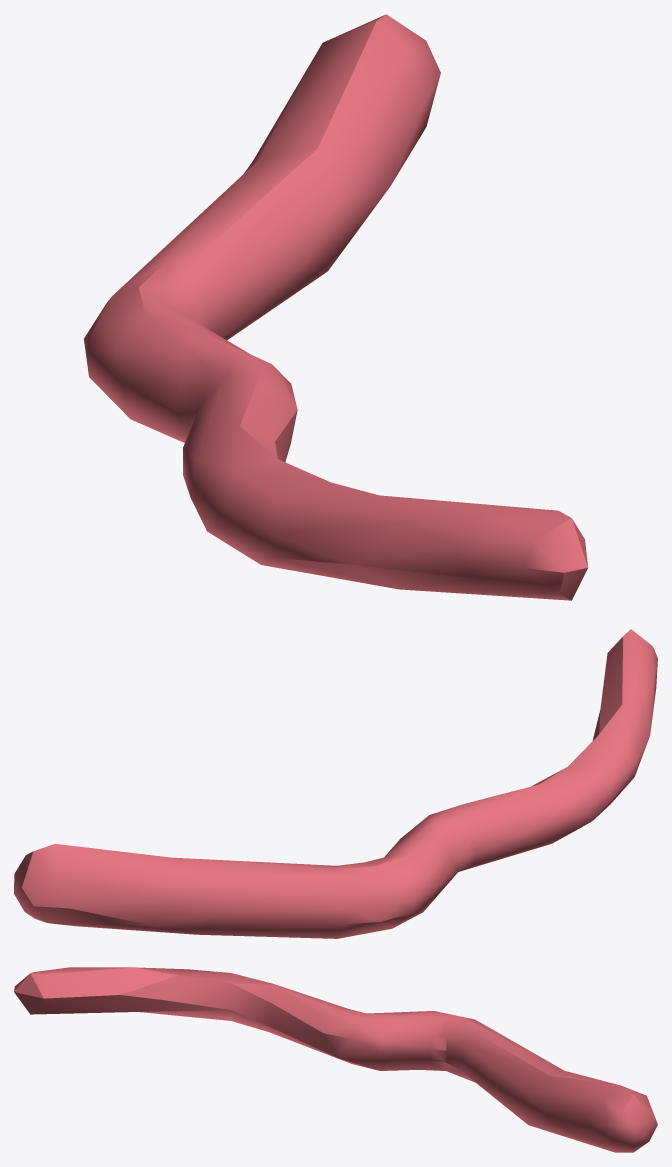
The model's file is fma4713_fj2679.glb.
3 renders of one model, top to bottom at view 1: azimuth 30°, elevation 25°; view 2: azimuth 150°, elevation 25°; view 3: azimuth 270°, elevation 25°, orthographic. The views are drawn at different scales.
Visible parts, largest first — view 1: FMA4713_FJ2679; view 2: FMA4713_FJ2679; view 3: FMA4713_FJ2679.
Part boxes in pixels (left/top/right/bottom): FMA4713_FJ2679: left=84, top=14, right=588, bottom=600; FMA4713_FJ2679: left=14, top=629, right=657, bottom=938; FMA4713_FJ2679: left=14, top=967, right=657, bottom=1152.
Bounding box in the file's own units: 0.0053 × 0.00166 × 0.0096.
